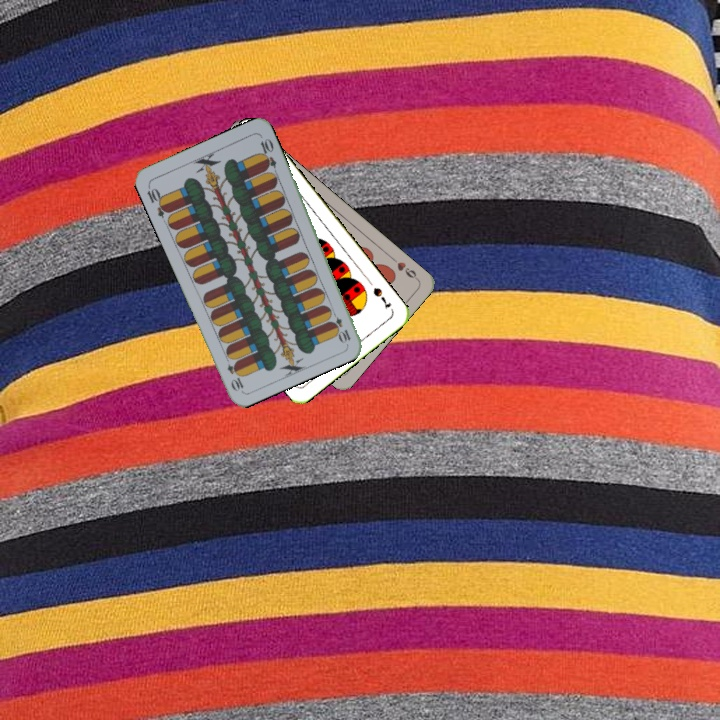E10: (143, 182, 172, 220), (327, 306, 353, 345)
H9: (387, 253, 421, 283)
S7: (369, 283, 394, 312)
